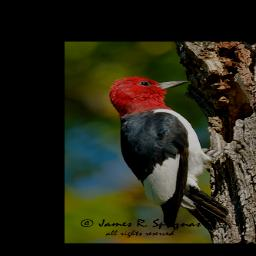Woodpecker: (110, 74, 236, 233)
